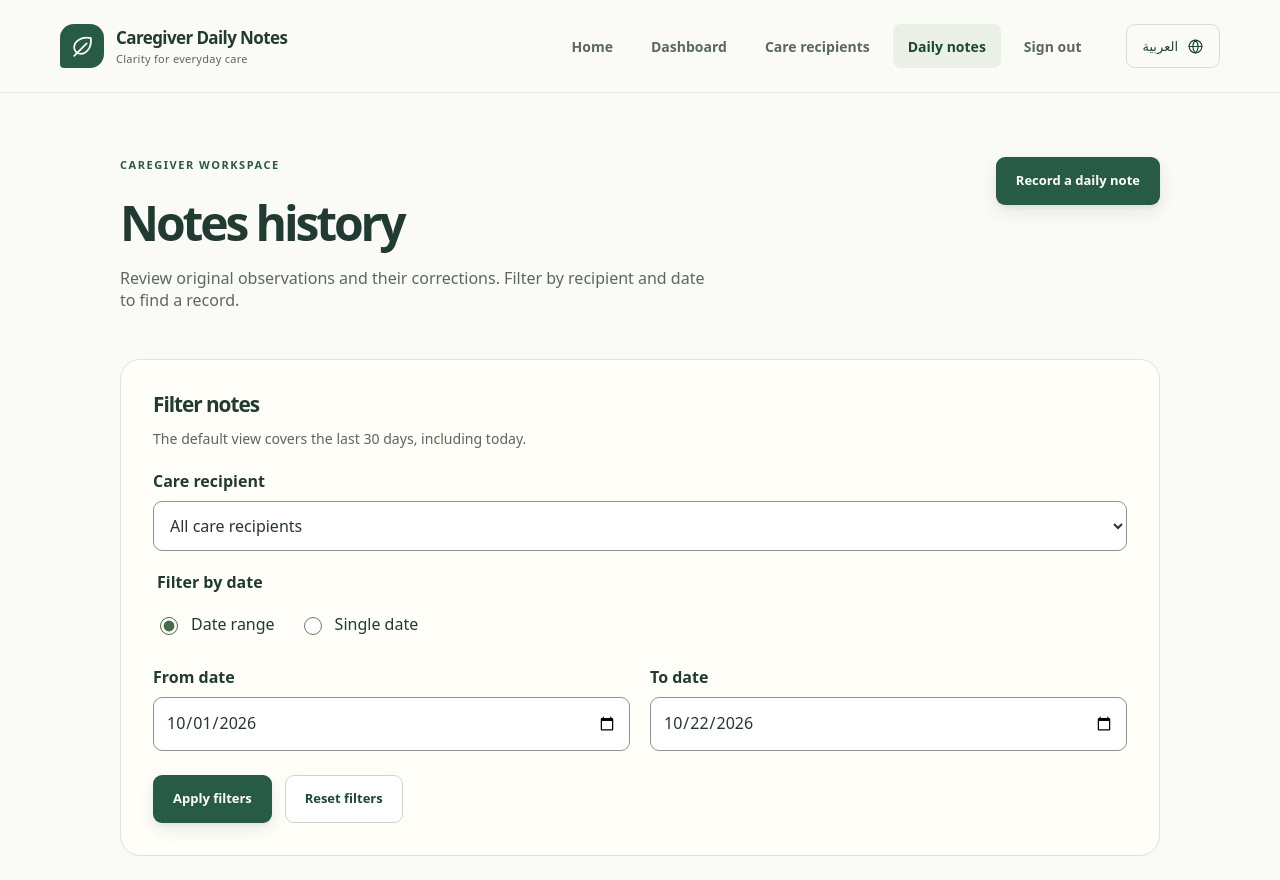
it: history screen, filters and immutable records › validates empty/reversed dates, focuses the field and retains the current results without a request
The image size is (1280, 880).
Clear the date field labelled "From date" at [392, 724], box [153, 697, 630, 751]
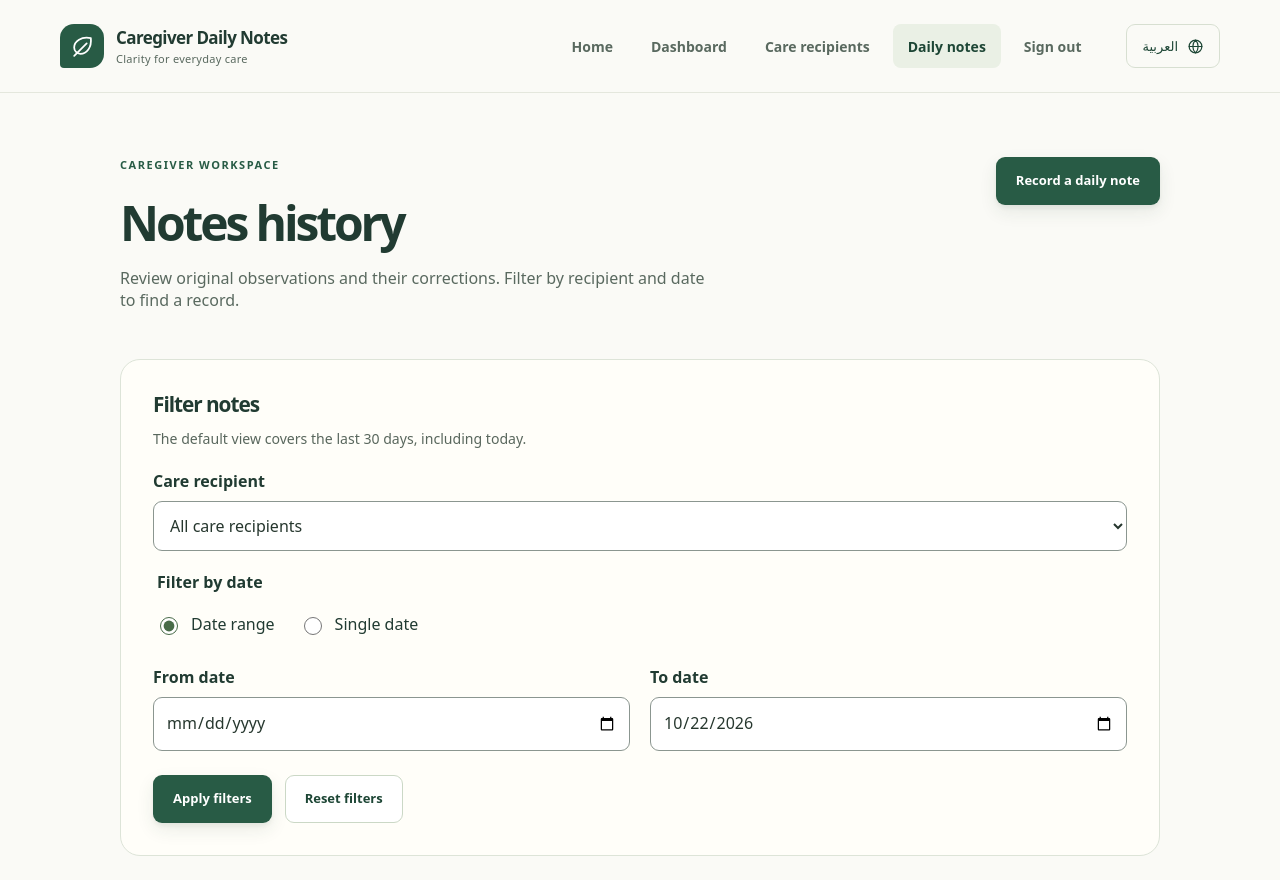
Click the button "Apply filters" at [212, 799], box [153, 775, 272, 823]
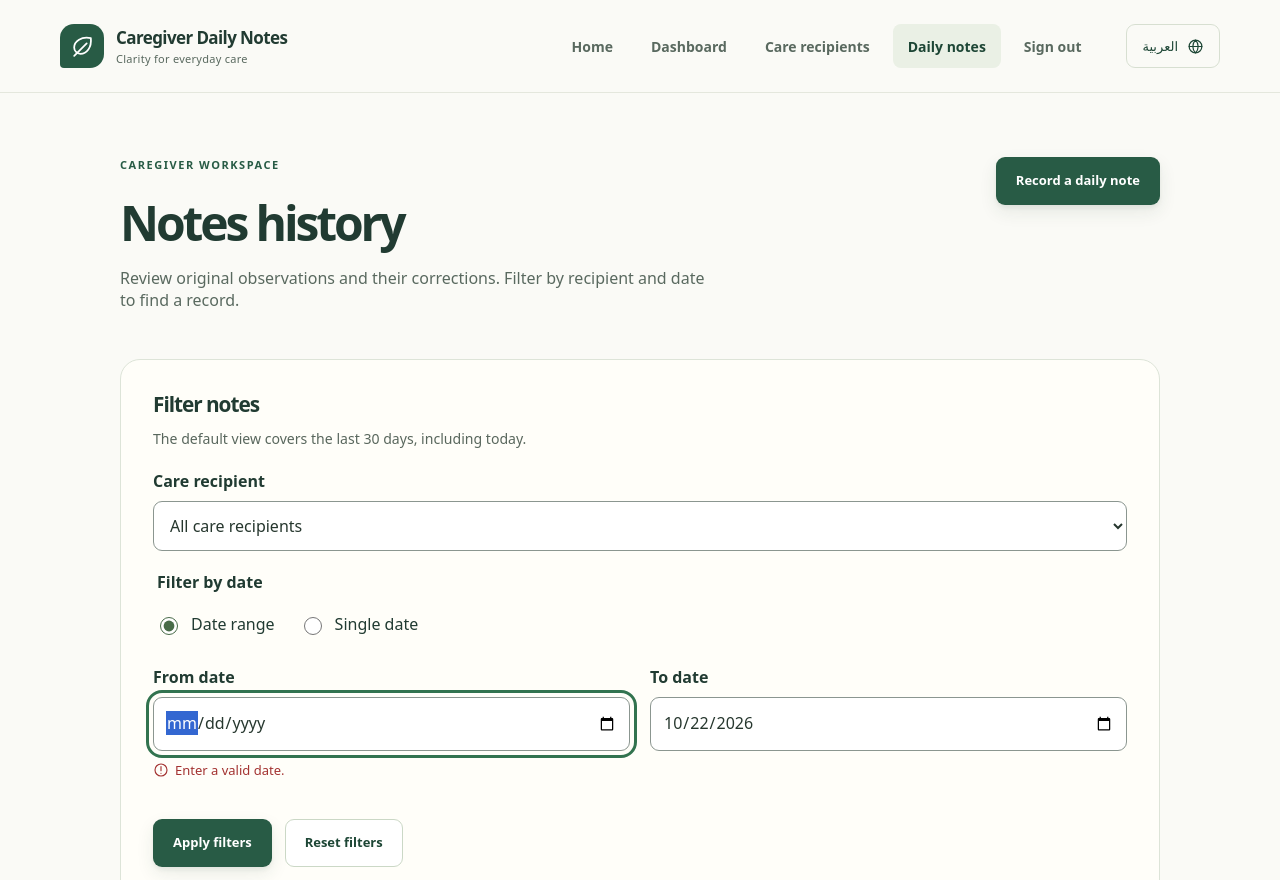
Expected: the date field labelled "From date" is marked as invalid
Type "2026-11-01" into the date field labelled "From date" at [392, 724], box [153, 697, 630, 751]
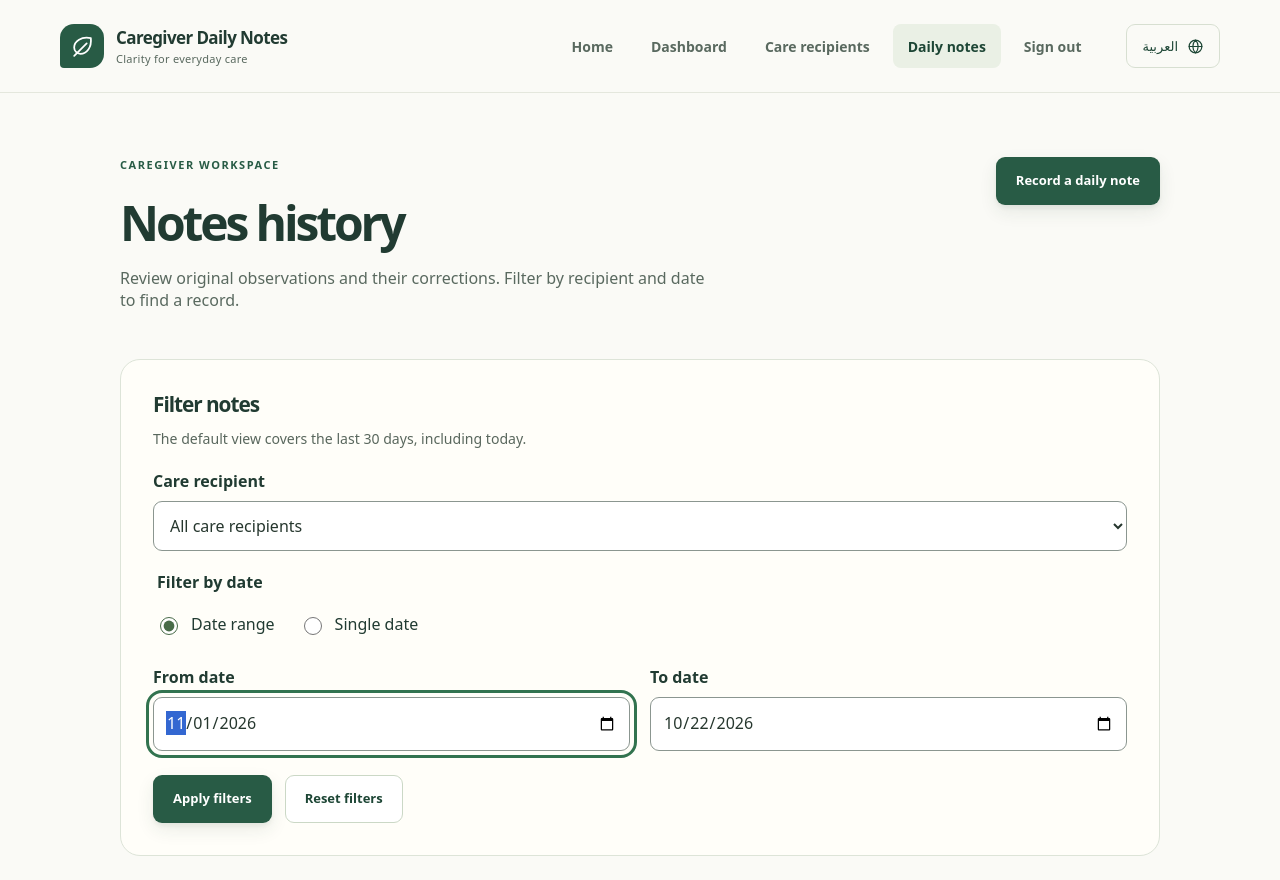
Click the button "Apply filters" at [212, 799], box [153, 775, 272, 823]
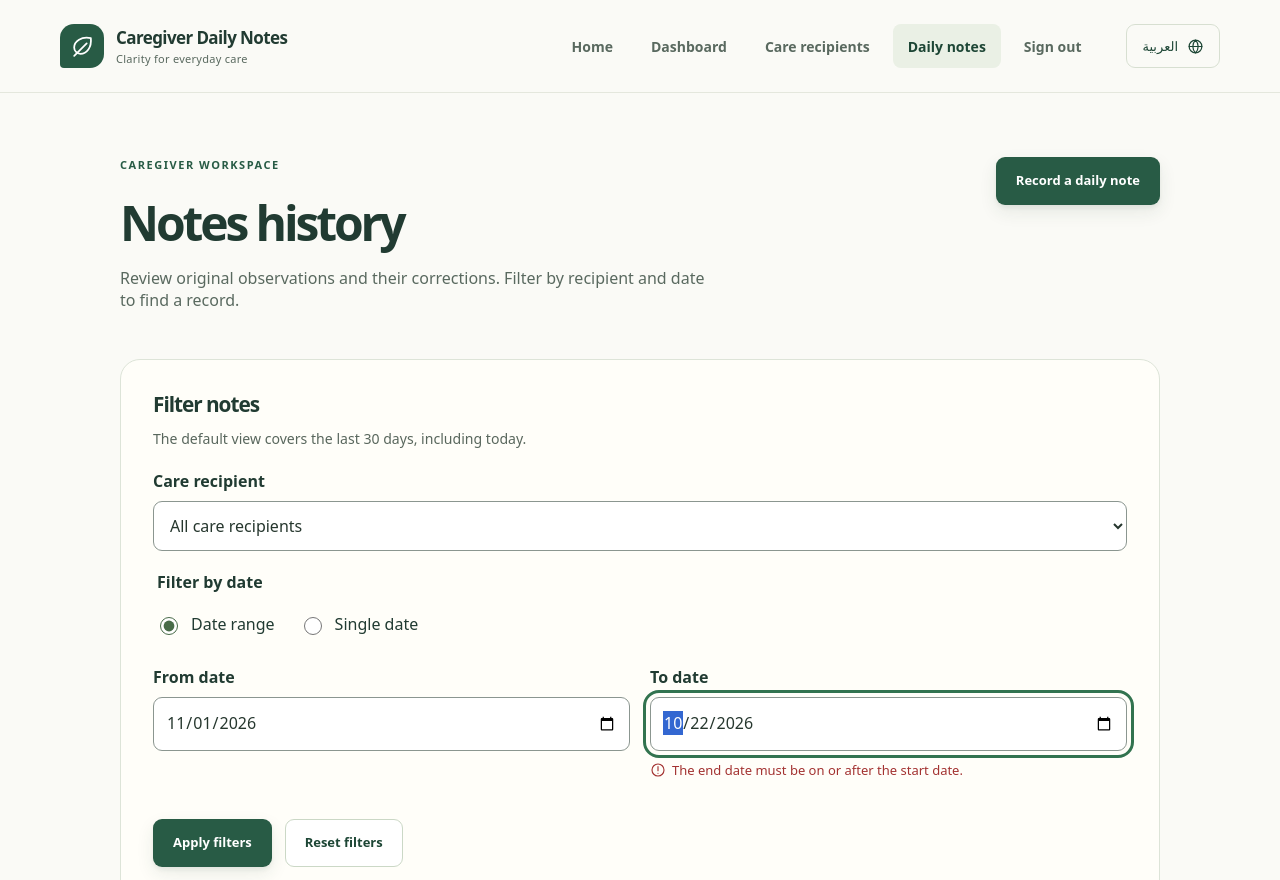
Expected: the message shows "end date", [672, 761, 963, 779]
